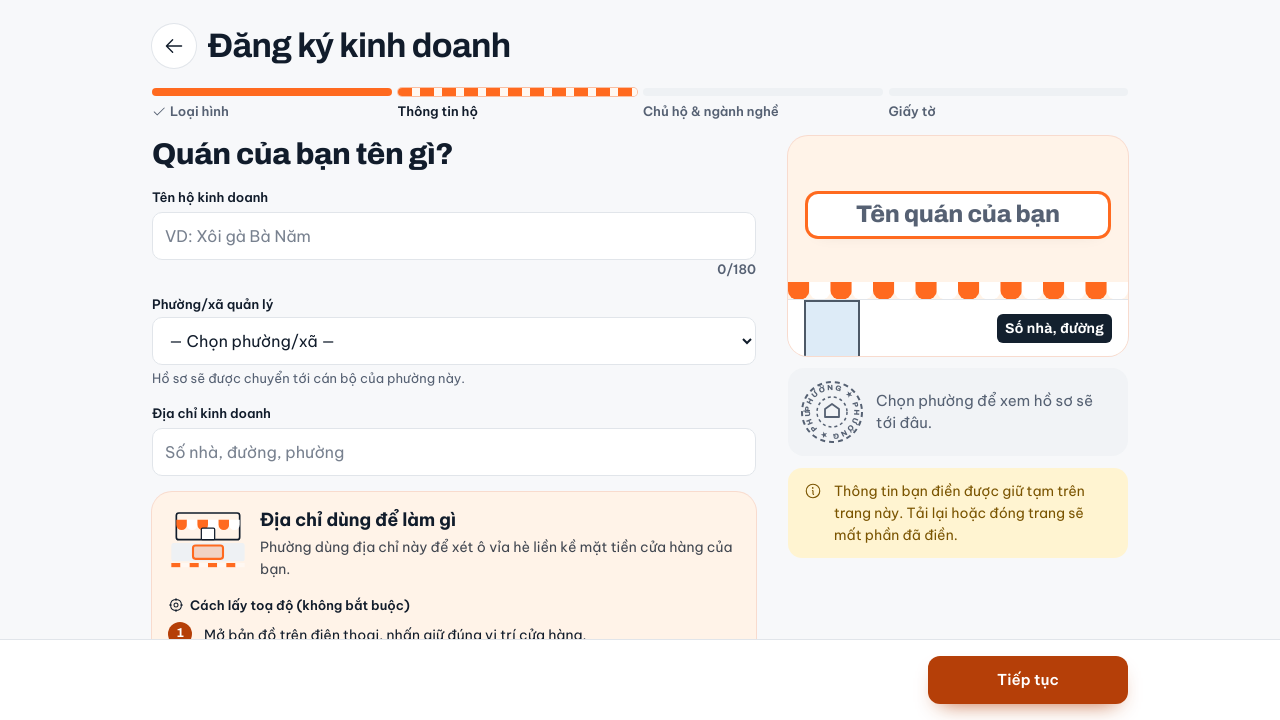
Test: step 2 — business details › needs a name, a ward and, for a fixed storefront, an address
Click the button "Tiếp tục": (1028, 680) [928,656,1128,704]
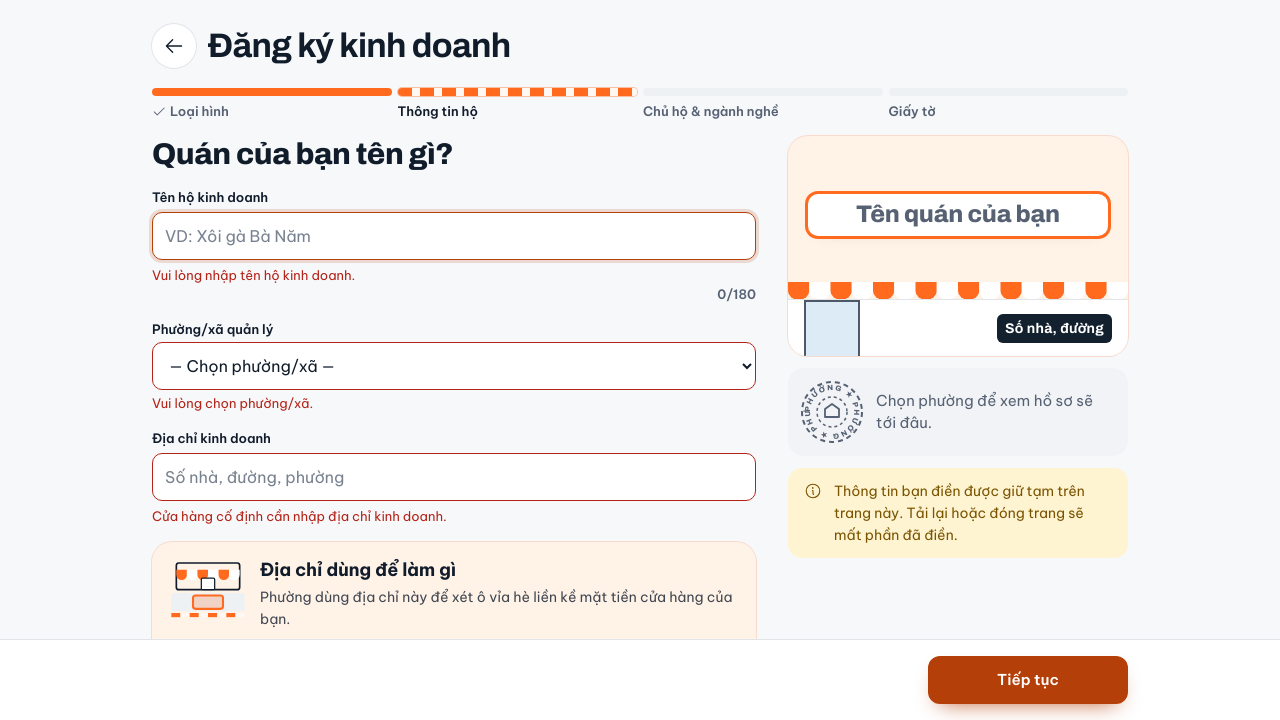
Check: the text "Vui lòng nhập tên hộ kinh doanh." is shown, box [152,267,355,283]
Check: the text "Vui lòng chọn phường/xã." is shown, box [152,395,313,411]
Check: the text "Cửa hàng cố định cần nhập địa chỉ kinh doanh." is shown, box [152,508,447,524]
